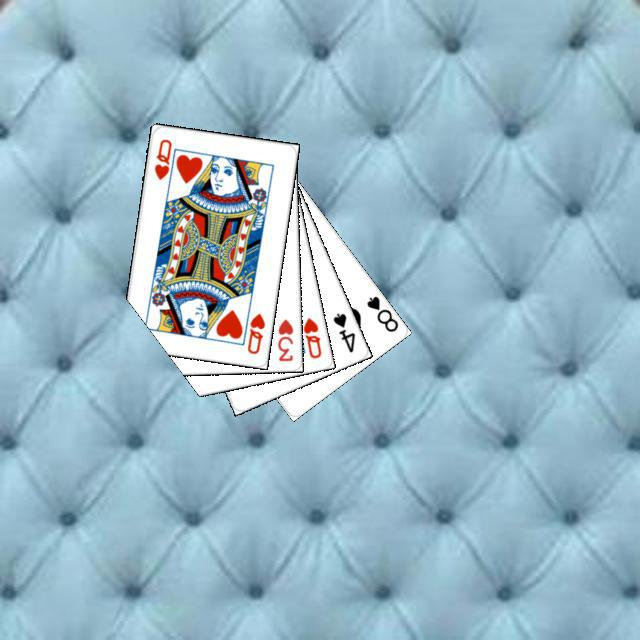3h: (273, 314, 295, 363)
4s: (328, 308, 357, 354)
8s: (362, 291, 400, 334)
Qh: (149, 134, 177, 188), (242, 308, 267, 356), (298, 313, 323, 360)
